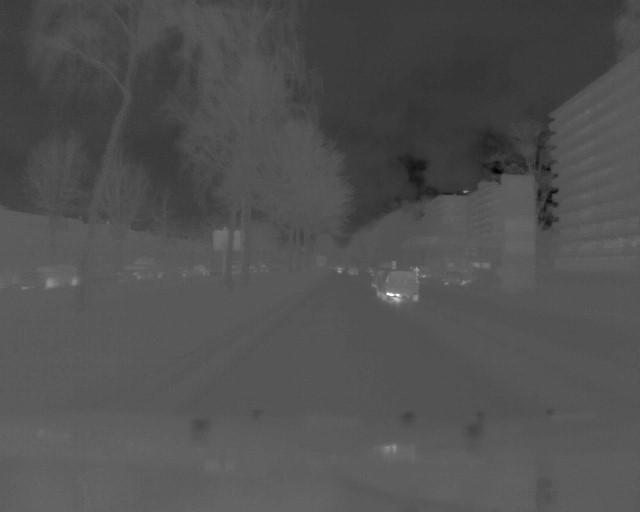car: (17, 260, 83, 290), (375, 265, 427, 303), (440, 267, 472, 288), (188, 263, 214, 281)
